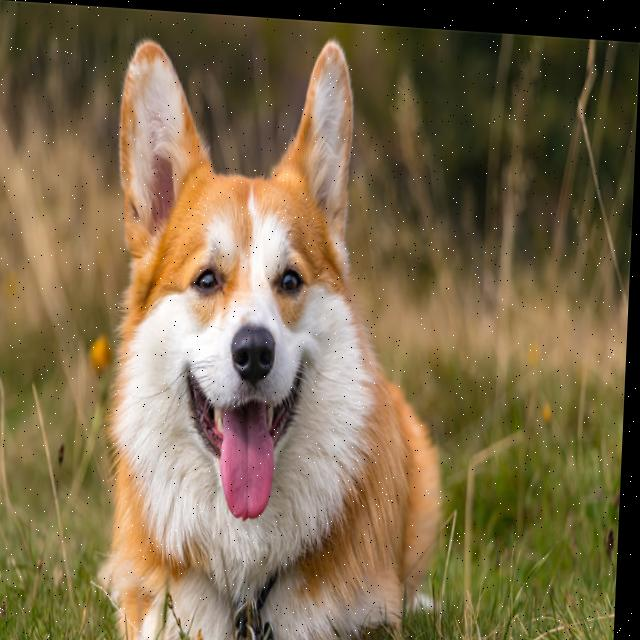CORGI: (97, 20, 478, 640)
